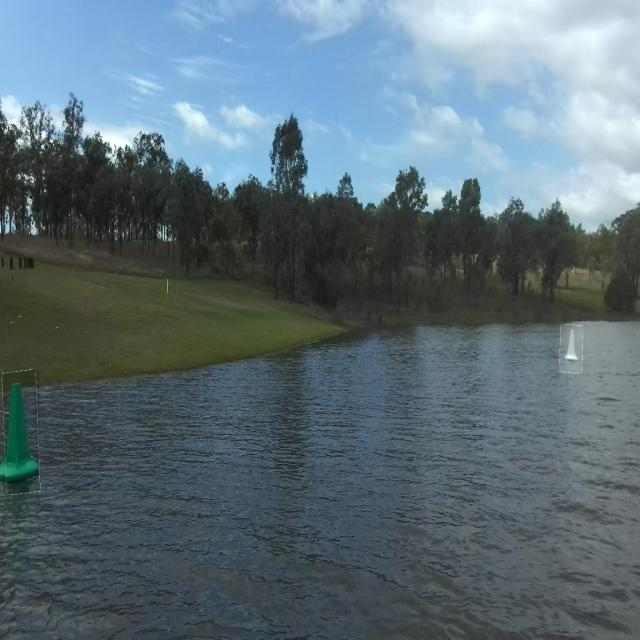Green_Buoy: (5, 374, 39, 487)
White_Buoy: (560, 318, 582, 377)
